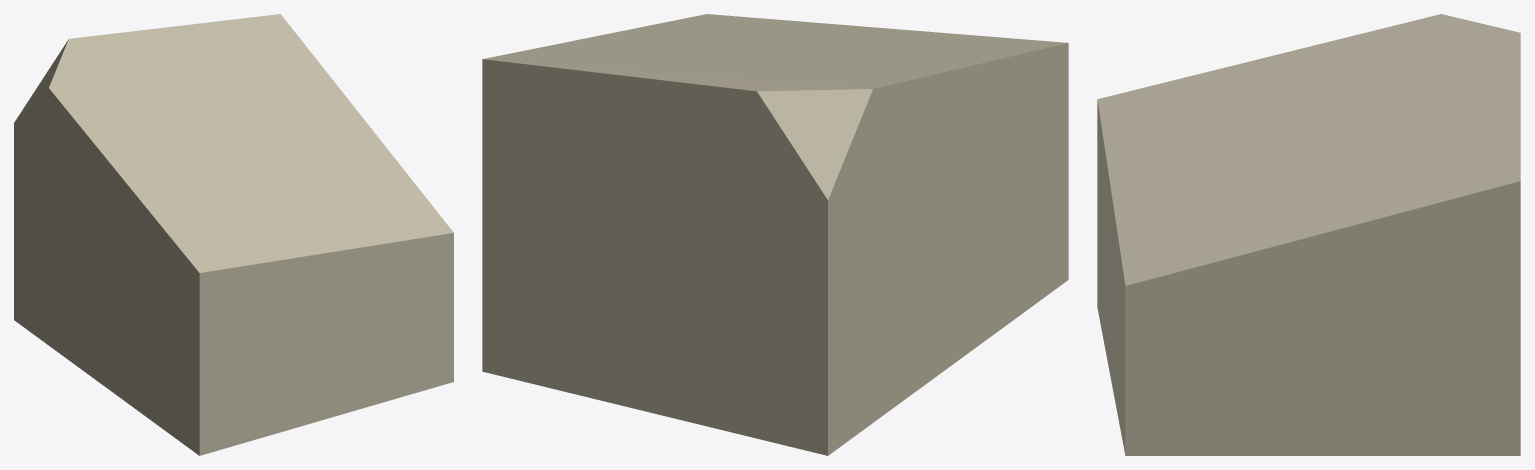
File: Rock_Square_s_02.fbx
3 renders of one model, left to right at view 1: azimuth 30°, elevation 25°; view 2: azimuth 150°, elevation 25°; view 3: azimuth 270°, elevation 25°, orthographic. The views are drawn at different scales.
Parts seen in each view (by area): view 1: Rock_Square_s_02; view 2: Rock_Square_s_02; view 3: Rock_Square_s_02.
Part boxes in pixels (x1,y1,x2,y2): Rock_Square_s_02: (14,14,453,455); Rock_Square_s_02: (482,14,1068,455); Rock_Square_s_02: (1097,14,1520,455).
Size of the model in its own units: 39.22 by 37.66 by 47.28.
